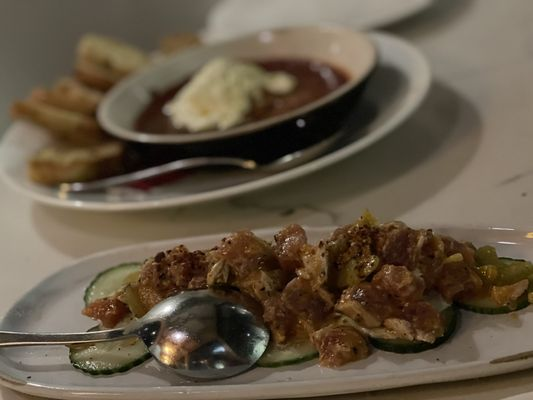salad: (1, 287, 271, 380)
